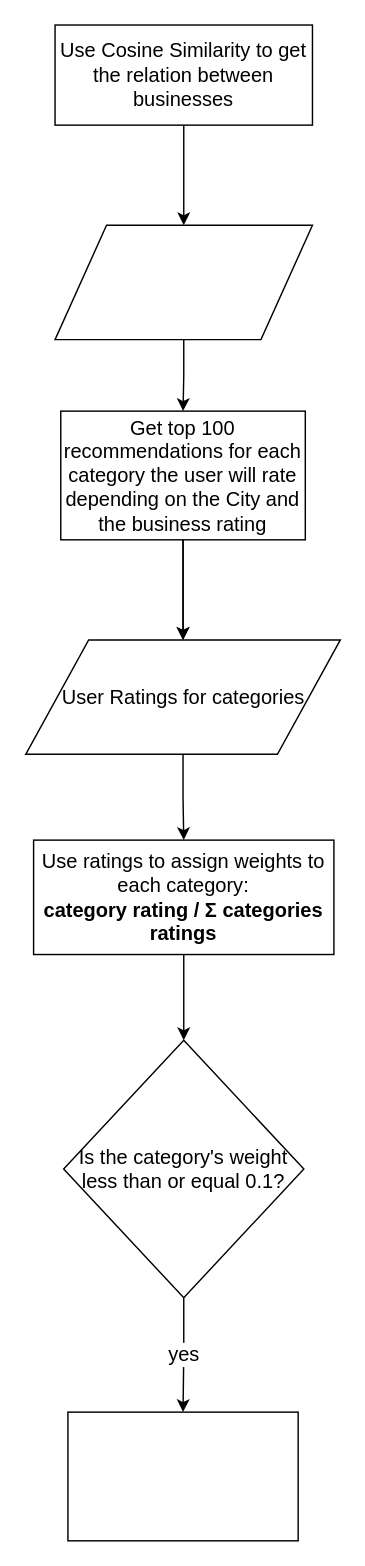
Some shapes in this 365 by 1566 pixel diagram are drawn without their labels. The box of each missing label's shape, as (x1, y1, x2, y2) in pixels:
The frequency of appearance of recommendations from this category will be halved: (66, 1411, 298, 1541)
User current City/Governorate: (54, 224, 312, 340)
